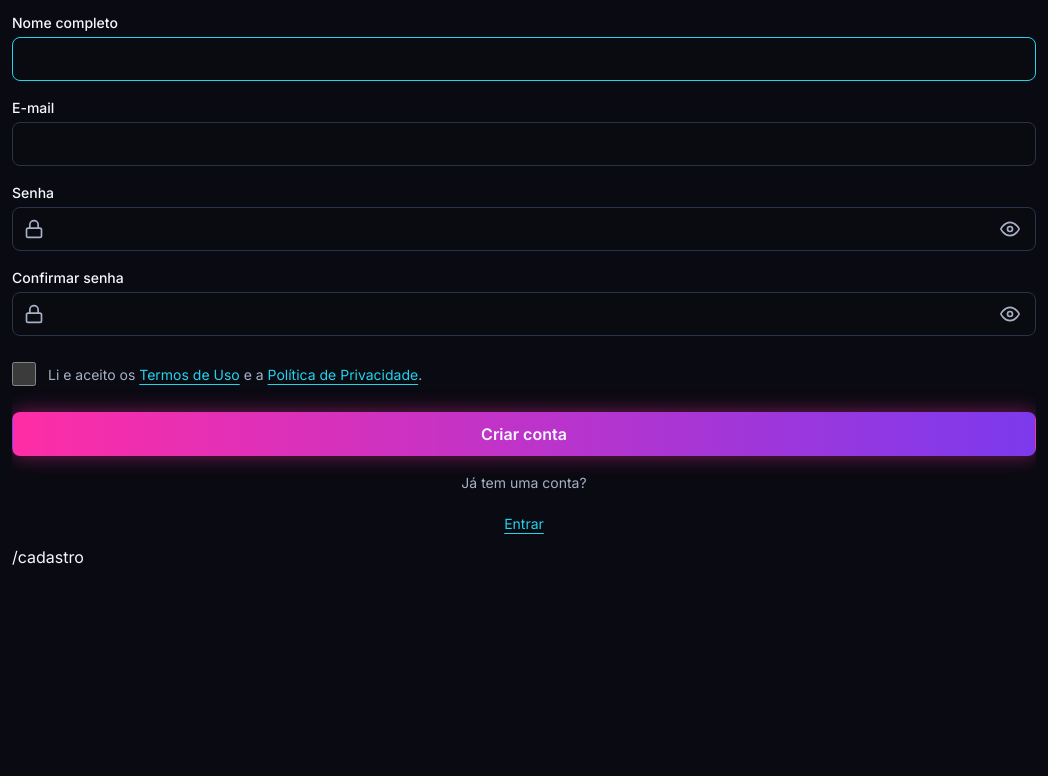
Test: RegisterForm (AUTH-002) › exige a confirmacao igual a senha
Step 1. Type "Ana Maria" into the field labelled "Nome completo" → (524, 59), box x1=12 y1=37 x2=1036 y2=81
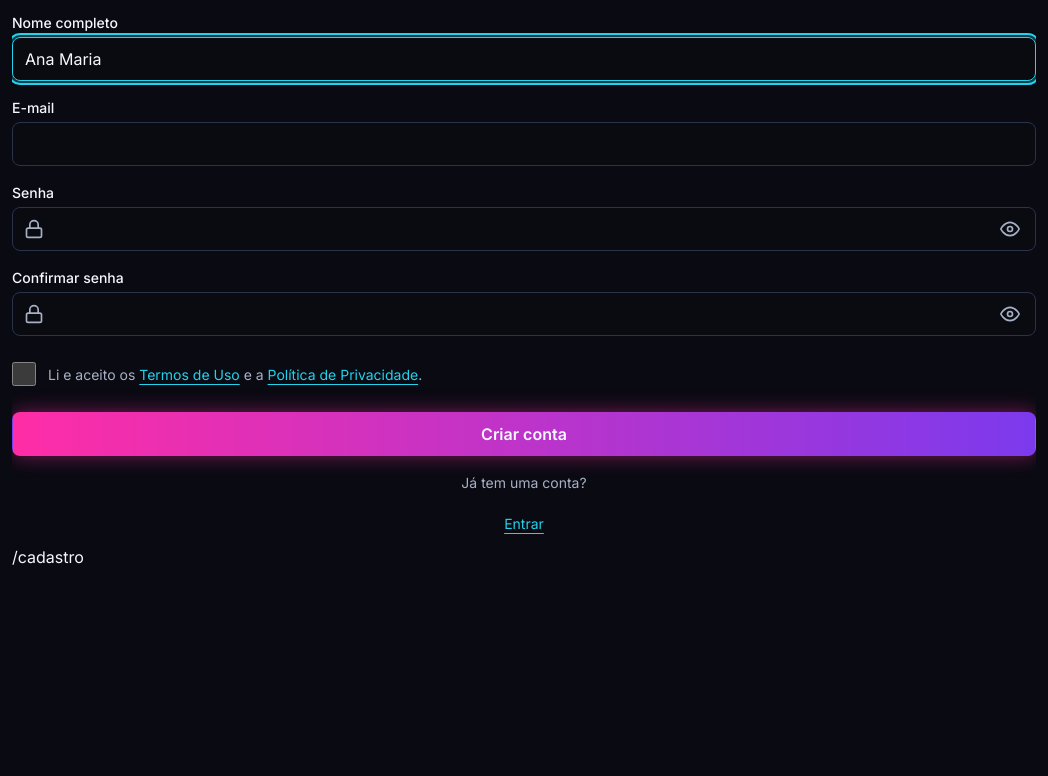
Step 2. Type "ana@exemplo.com" into the field labelled "E-mail" → (524, 144), box x1=12 y1=122 x2=1036 y2=166
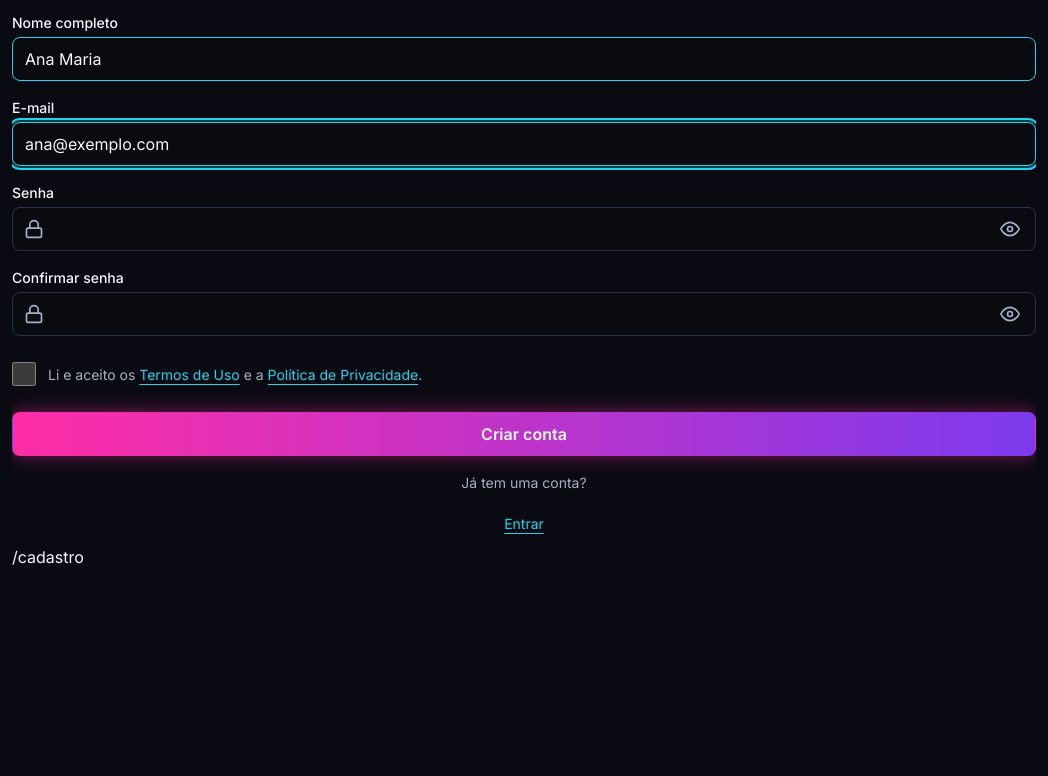
Step 3. Type "Frase-Longa-Segura-2026" into the password field labelled "Senha" → (524, 229), box x1=12 y1=207 x2=1036 y2=251
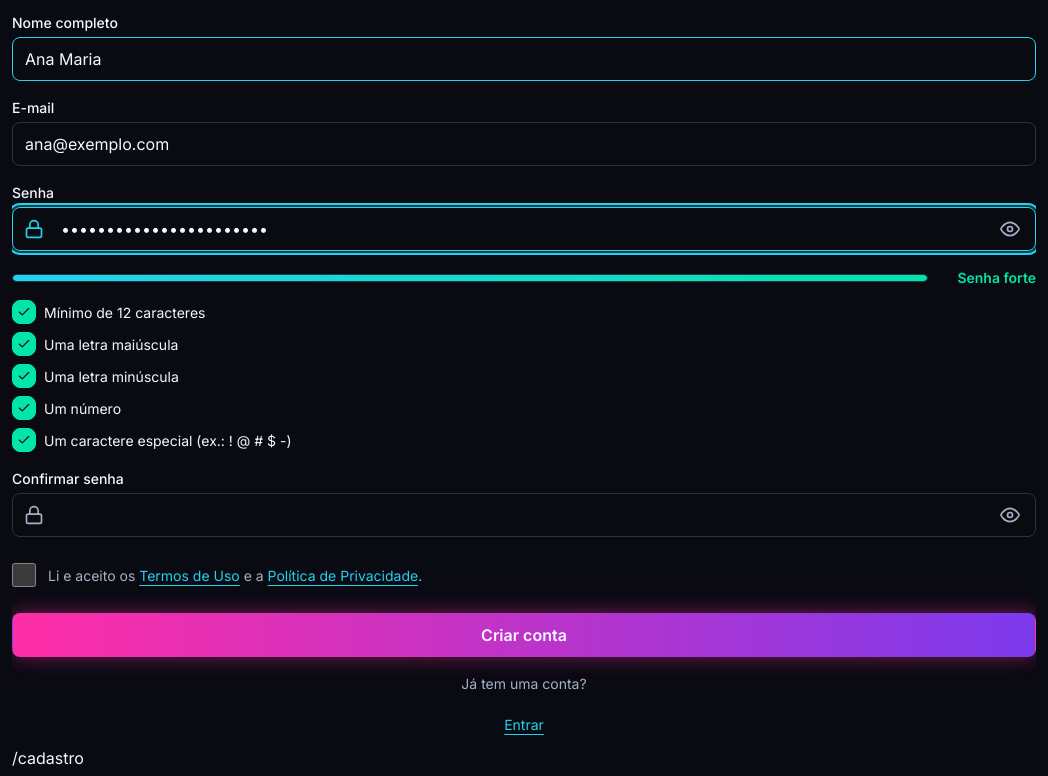
Step 4. Type "senha diferente da outra" into the password field labelled "Confirmar senha" → (524, 515), box x1=12 y1=493 x2=1036 y2=537
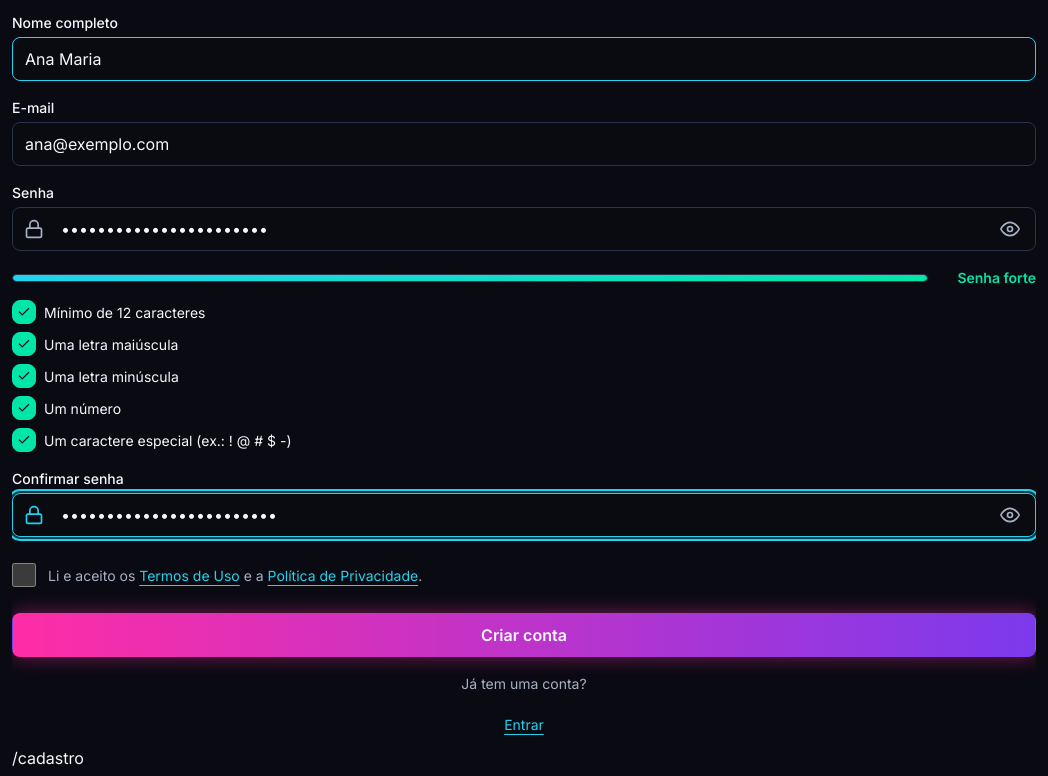
Step 5. Click the checkbox → click(24, 575), box x1=12 y1=563 x2=36 y2=587
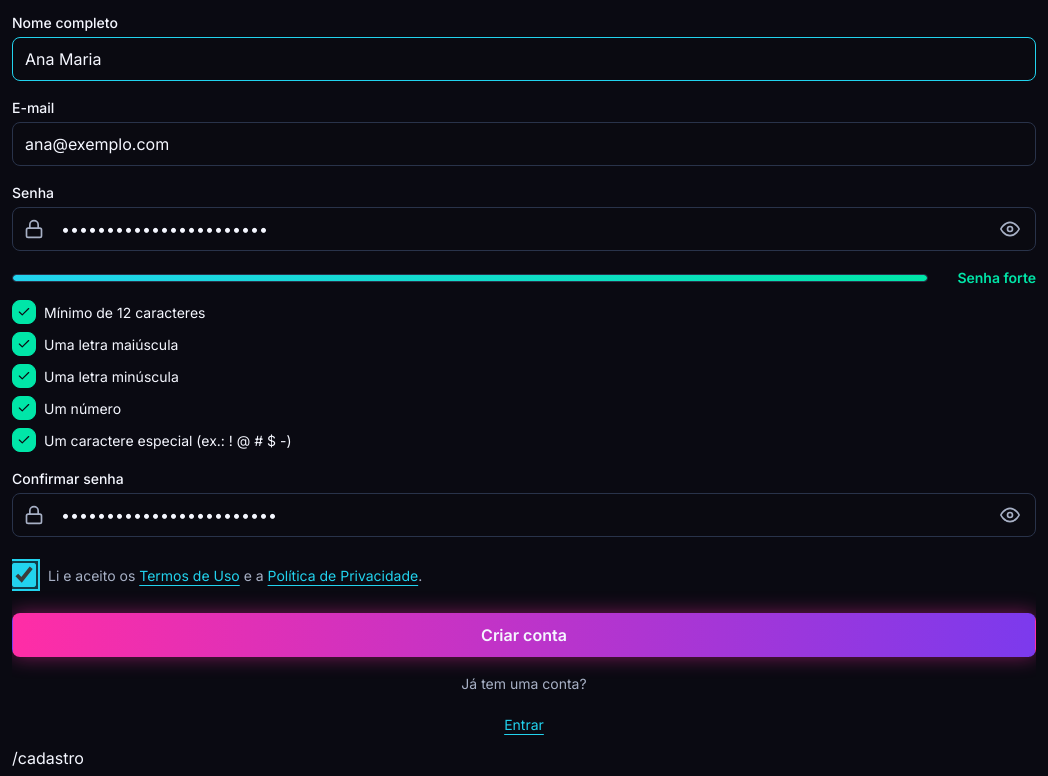
Step 6. Click the button "Criar conta" → click(524, 635), box x1=12 y1=613 x2=1036 y2=657
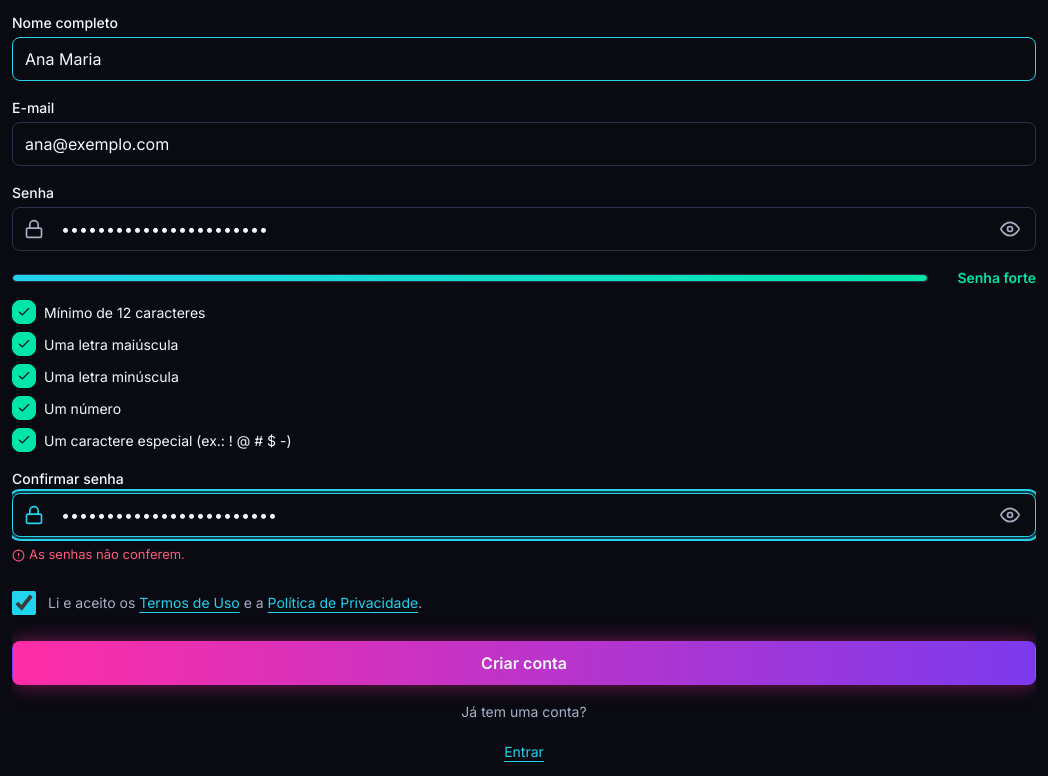
Check: the text "As senhas não conferem." is shown, box x1=29 y1=545 x2=185 y2=564
